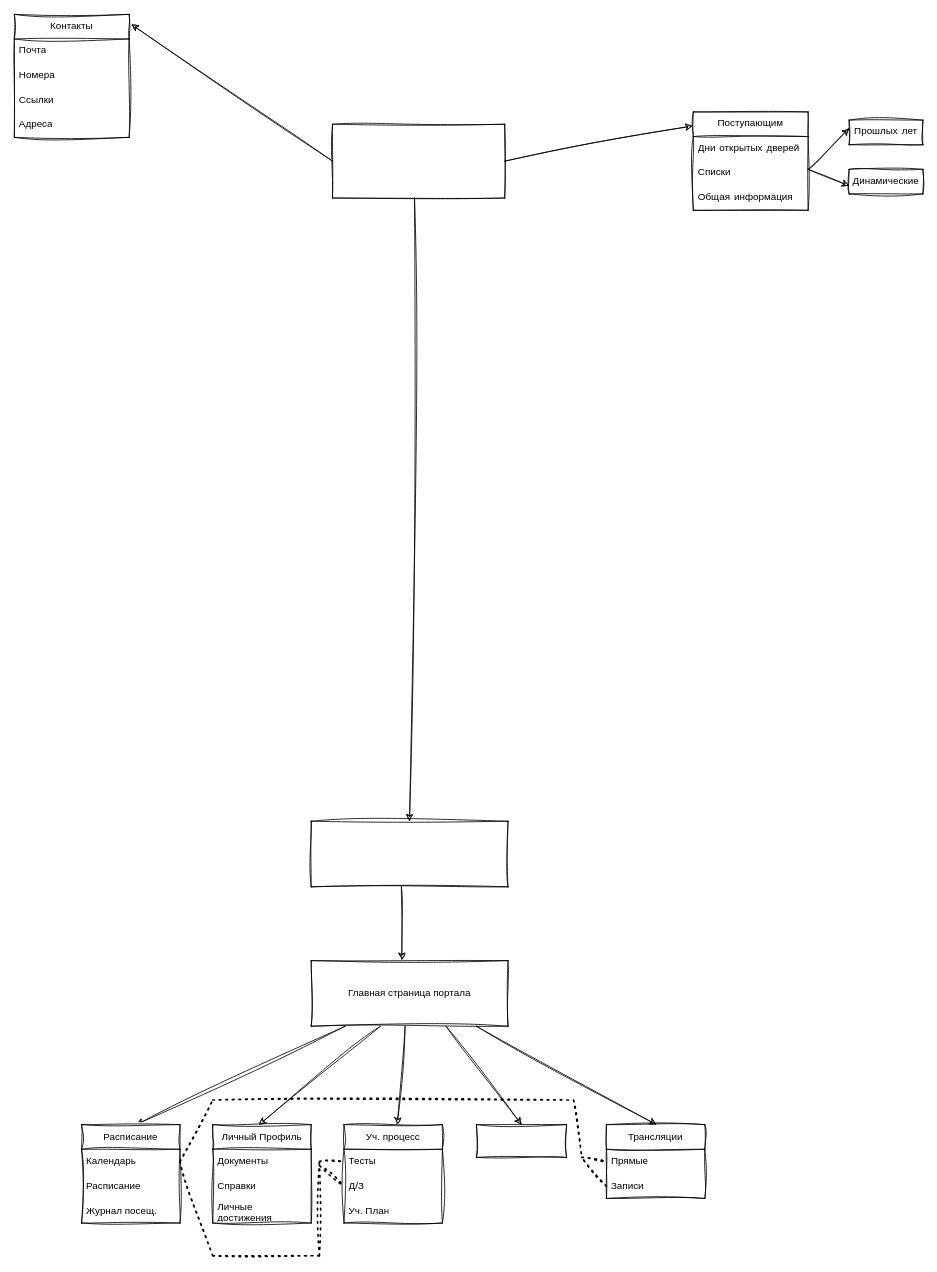
Some shapes in this 937 by 1272 pixel diagram are drawn without their labels. Each missing label, with the centre of its shape:
"Авторизаци/Регистрация" belongs at point (409, 853).
"Главная страница сайта" belongs at point (418, 160).
"Лента" belongs at point (521, 1140).
